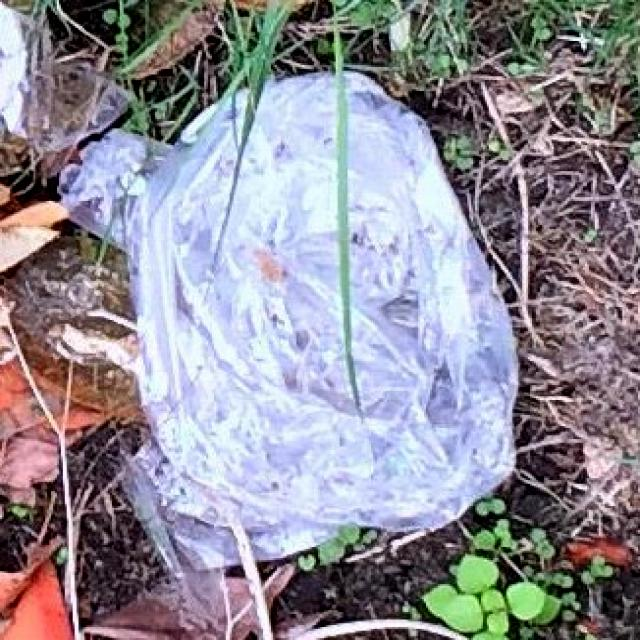Trash: (124, 67, 522, 565)
